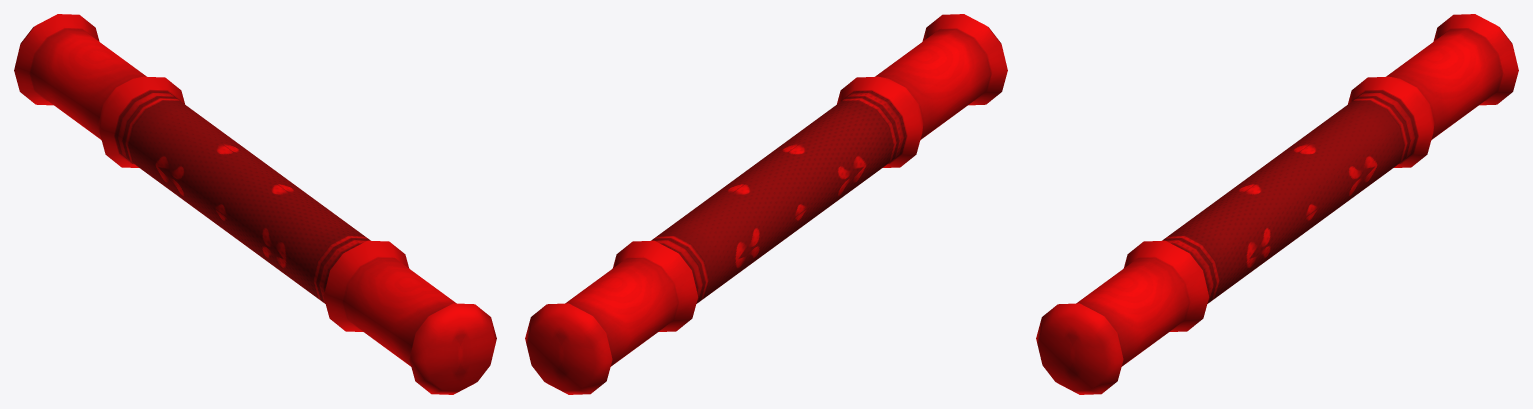
Rendered from M_MonkeymaceA.glb.
3 views of the same model, side by side, from view 1: azimuth 30°, elevation 25°; view 2: azimuth 150°, elevation 25°; view 3: azimuth 330°, elevation 25° (orthographic).
Parts seen in each view (by area): view 1: SM_Monkeymace; view 2: SM_Monkeymace; view 3: SM_Monkeymace.
Boxes of the visible parts, left/top/right/bottom form: SM_Monkeymace: left=14, top=14, right=496, bottom=394; SM_Monkeymace: left=525, top=14, right=1007, bottom=394; SM_Monkeymace: left=1036, top=14, right=1518, bottom=394.
Bounding box in the file's own units: 0.0912 × 0.0912 × 0.7398.
Materials: 1 (1 with a texture image).
